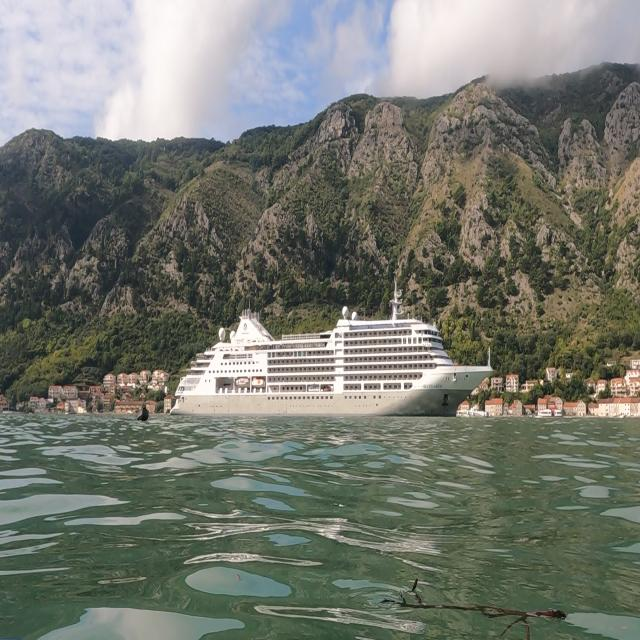boat: (167, 275, 495, 420)
buoy: (131, 404, 153, 426)
